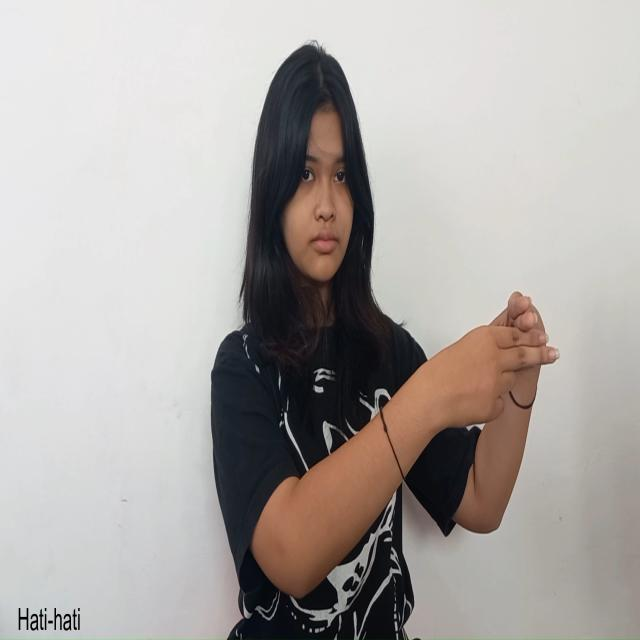Hati-hati -BISINDO-: (425, 292, 560, 429)
